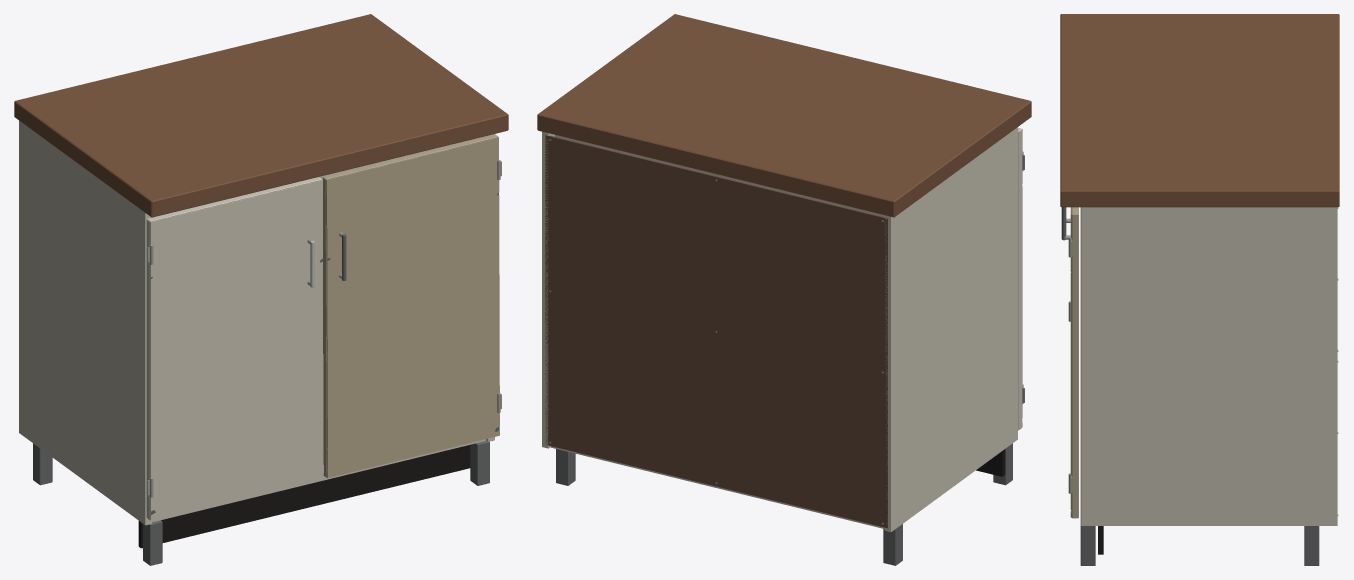
File: kitchen-base-cabinet-3e21a9f59dbf.glb
The picture shows the model from 3 angles, left to right: view 1: azimuth 30°, elevation 25°; view 2: azimuth 150°, elevation 25°; view 3: azimuth 270°, elevation 25°; orthographic projection.
Parts seen in each view (by area): view 1: wood-walnut, paint-rescued-beige, paint-rescued-cream, enamel, enamel-black, metal, enamel-beige; view 2: wood, wood-walnut, enamel, metal; view 3: enamel, wood-walnut, enamel-beige, metal, paint-rescued-beige.
Boxes of the visible parts, box(x1,y1,x2,y2) form: wood-walnut: box(14, 14, 508, 217); paint-rescued-beige: box(326, 137, 499, 477); paint-rescued-cream: box(150, 180, 322, 520); enamel: box(19, 120, 494, 525); enamel-black: box(138, 445, 470, 548); metal: box(33, 137, 499, 565); enamel-beige: box(322, 134, 498, 477); wood: box(545, 135, 887, 528); wood-walnut: box(537, 14, 1031, 217); enamel: box(542, 127, 1022, 531); metal: box(556, 443, 1012, 565); enamel: box(1080, 207, 1337, 525); wood-walnut: box(1060, 14, 1339, 207); enamel-beige: box(1071, 207, 1078, 518); metal: box(1061, 207, 1319, 565); paint-rescued-beige: box(1070, 207, 1071, 517).
Bounding box in the file's own units: 0.9 × 0.9 × 0.6.
